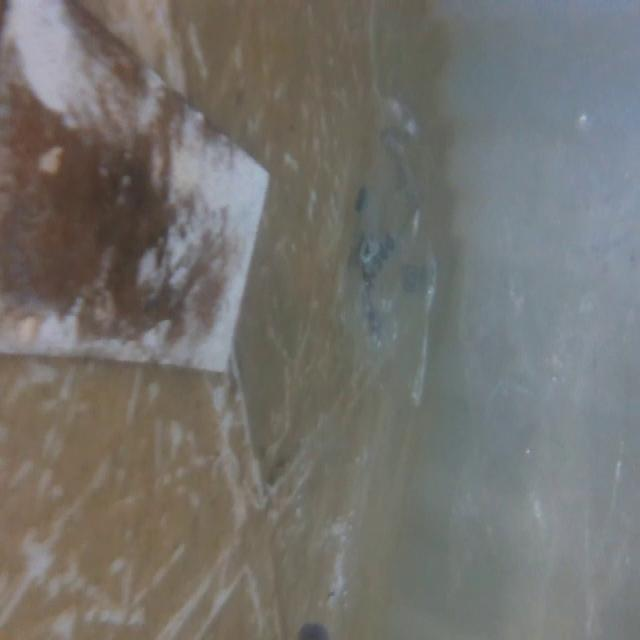plastic bags: (332, 95, 442, 411)
